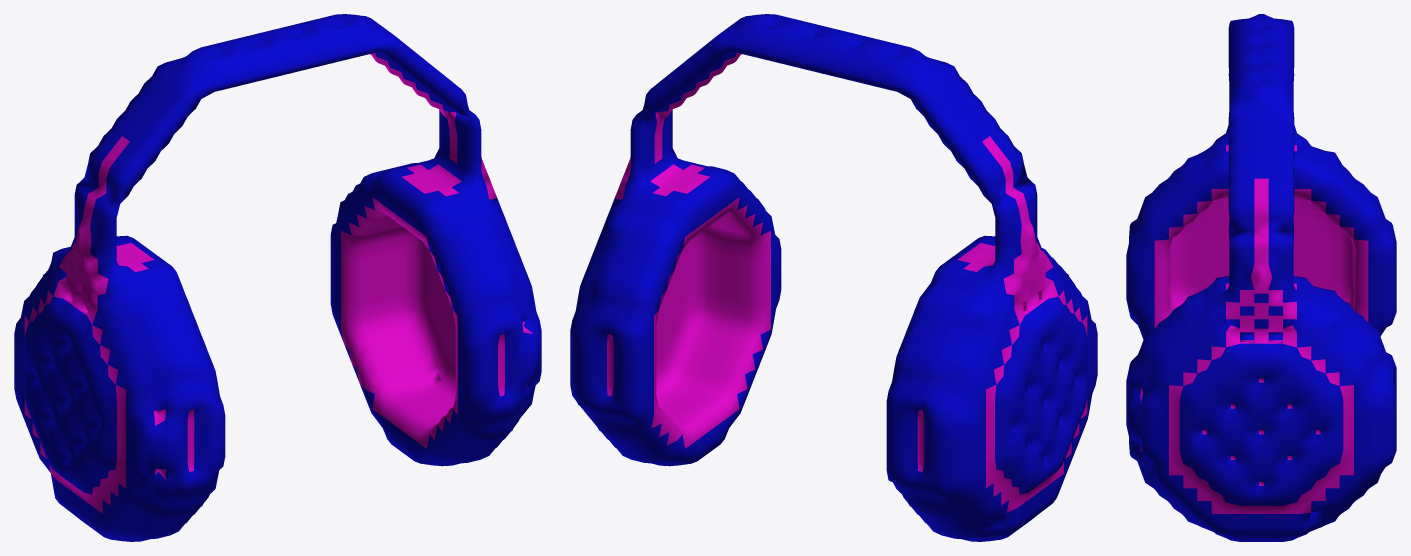
3 renders of one model, left to right at view 1: azimuth 30°, elevation 25°; view 2: azimuth 150°, elevation 25°; view 3: azimuth 270°, elevation 25°, orthographic. The views are drawn at different scales.
Size of the model in its own units: 1.6 by 1.6 by 0.95.
